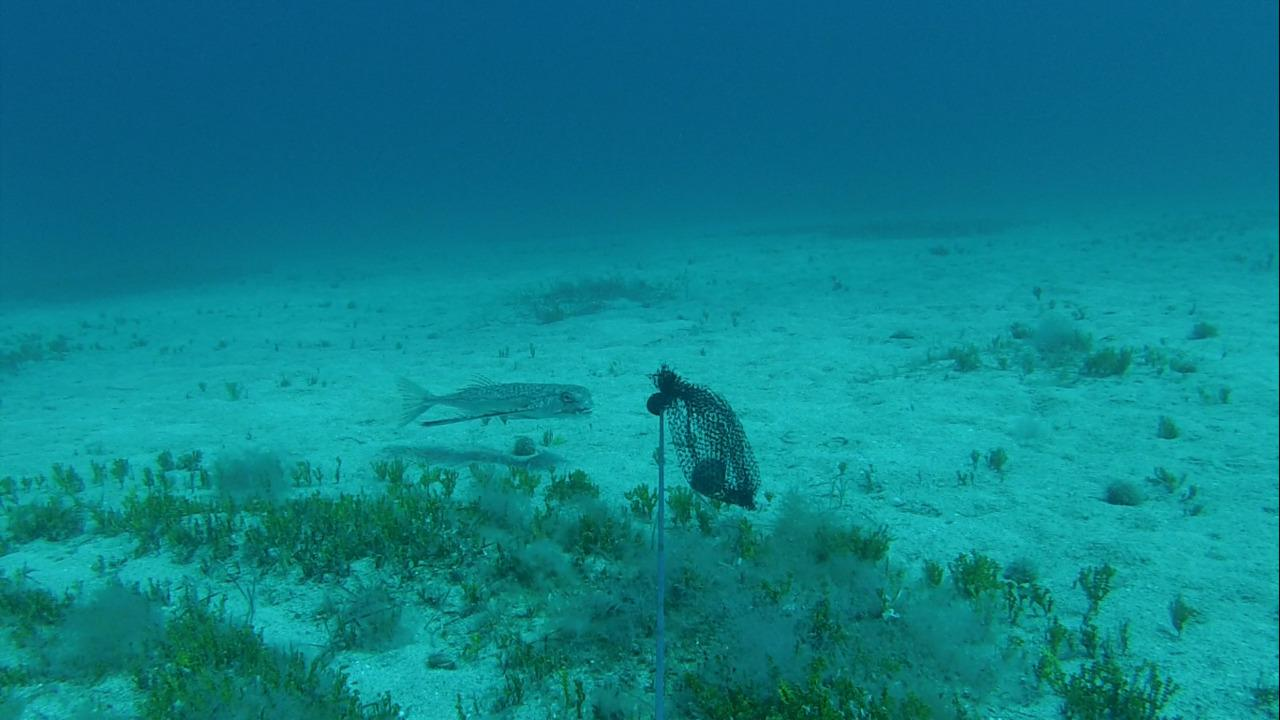dactylopterus: (391, 375, 599, 433)
